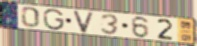0: (20, 6, 41, 29)
2: (157, 18, 174, 41)
3: (99, 13, 119, 36)
6: (130, 16, 150, 39)
G: (42, 8, 65, 31)
V: (72, 10, 96, 34)
